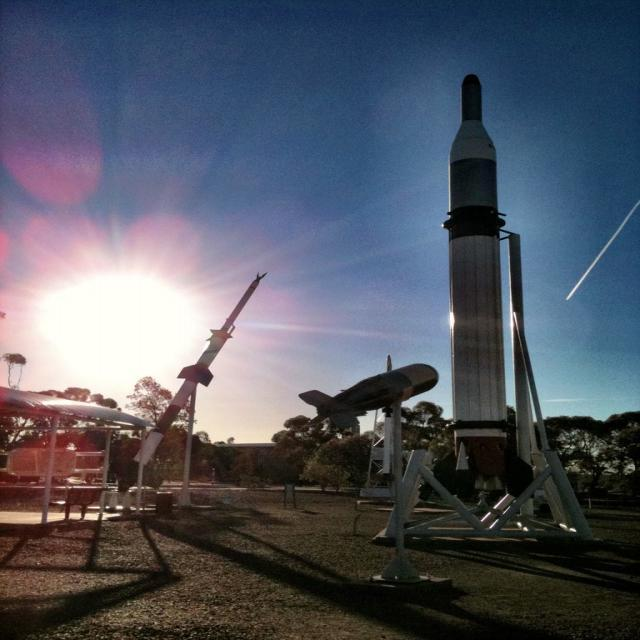missile: (142, 268, 268, 477)
